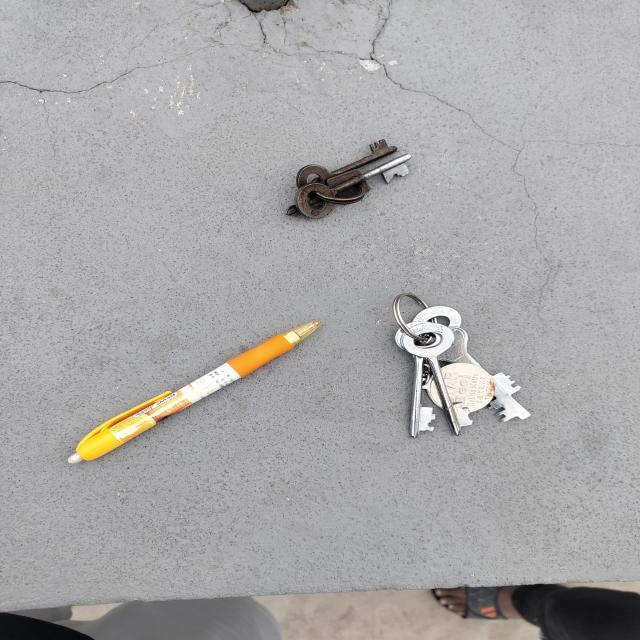metal: (391, 292, 531, 435), (288, 136, 412, 219)
plastic: (68, 317, 326, 467)
